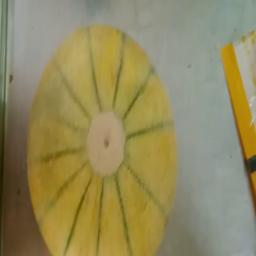Melon Semifresh: (18, 11, 191, 256)
